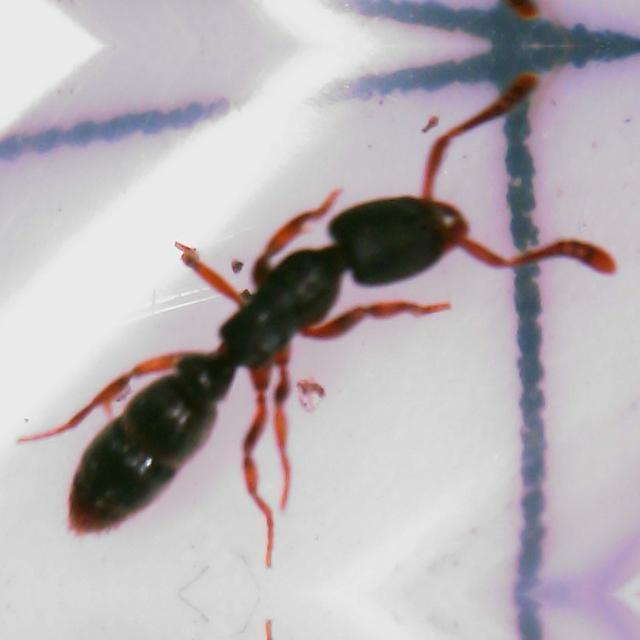Ponera: (34, 110, 556, 562)
